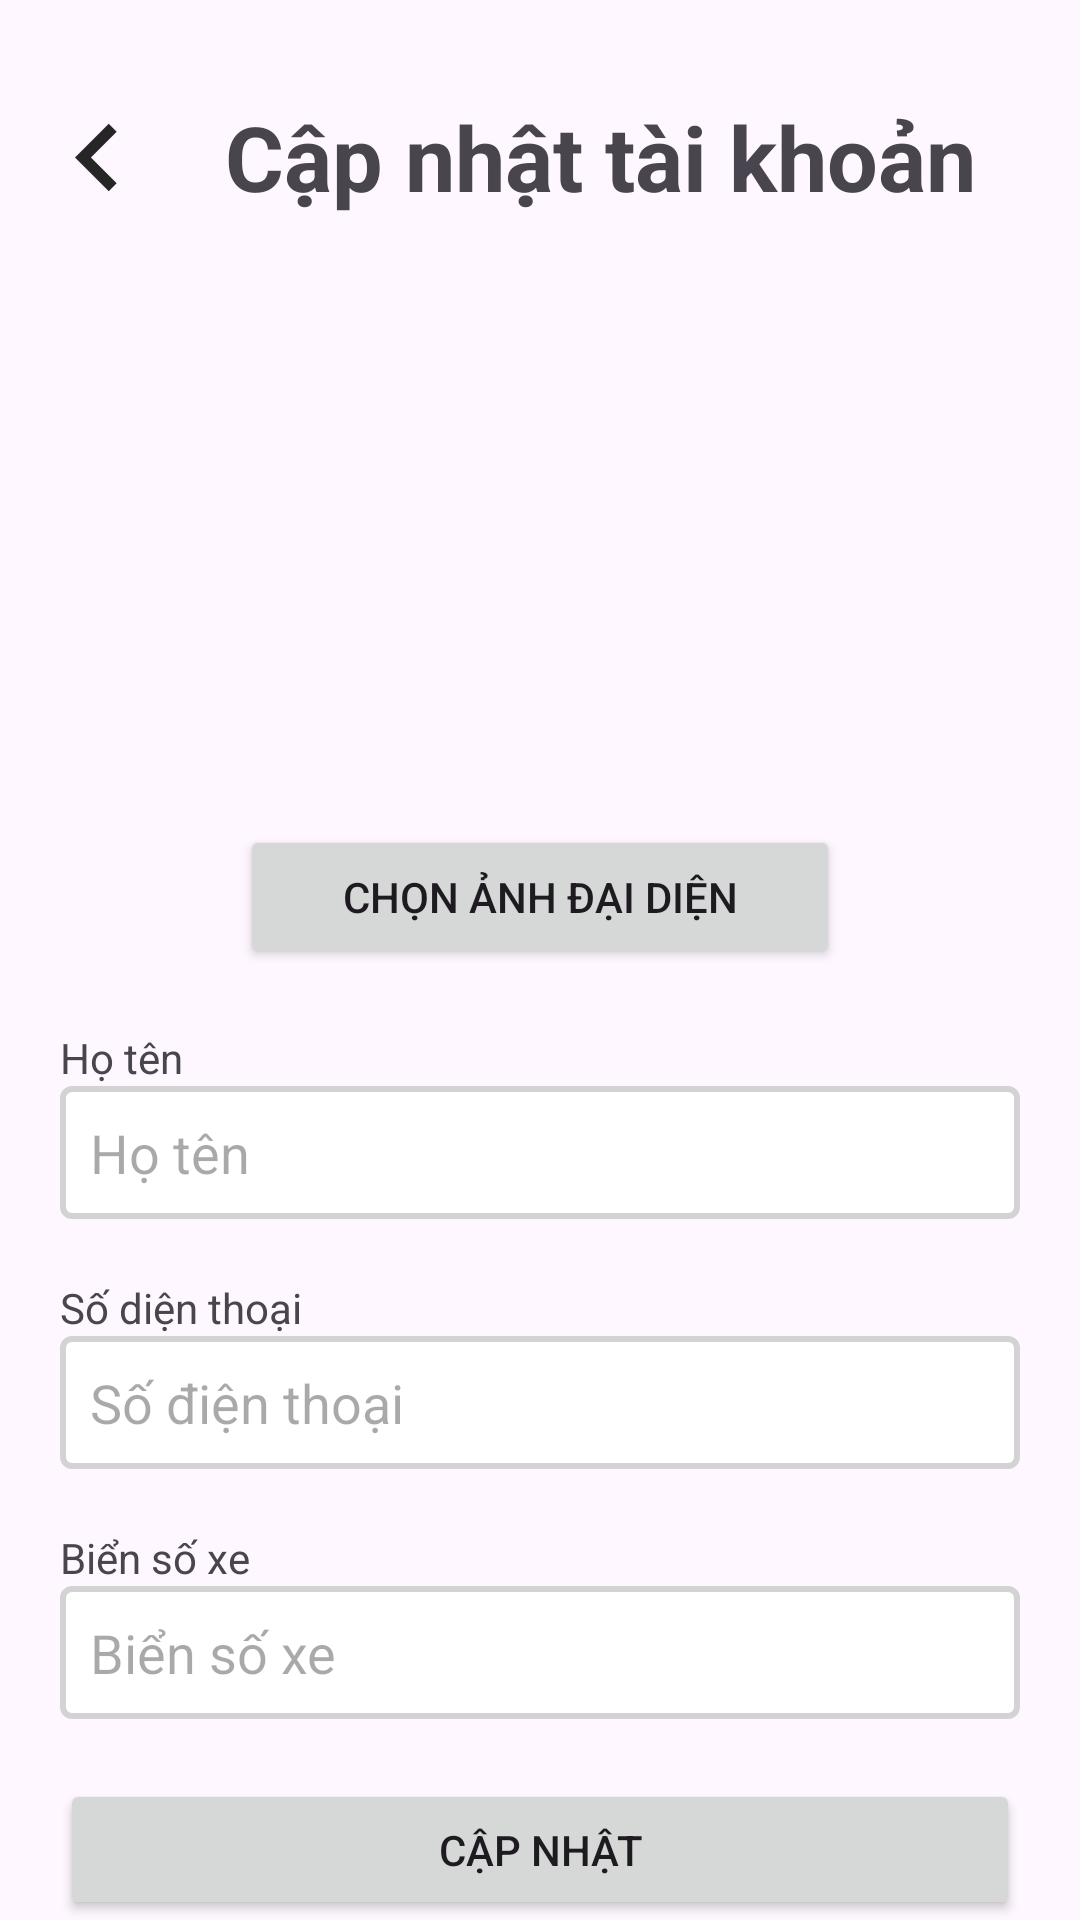

Named icons in this screenshot (1080 × 1920) and their bounding boxes, {"left": x1, "top": y1, "right": x2, "bottom": y2}:
goback: {"left": 75, "top": 124, "right": 117, "bottom": 191}
